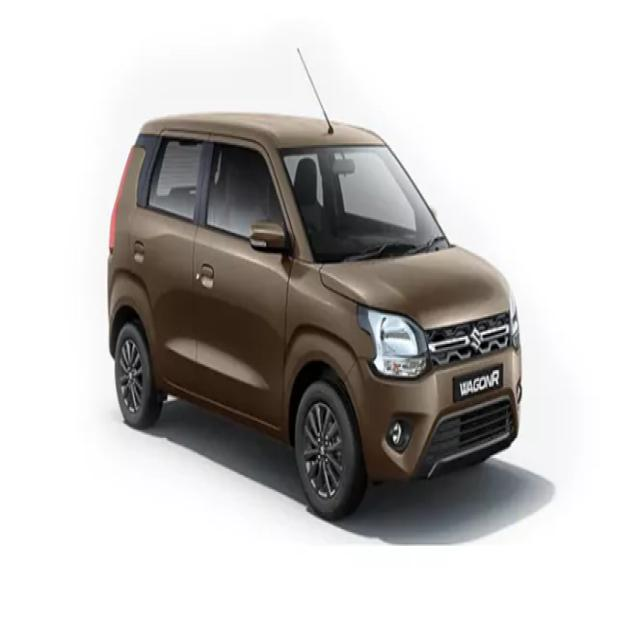car: (87, 78, 558, 544)
